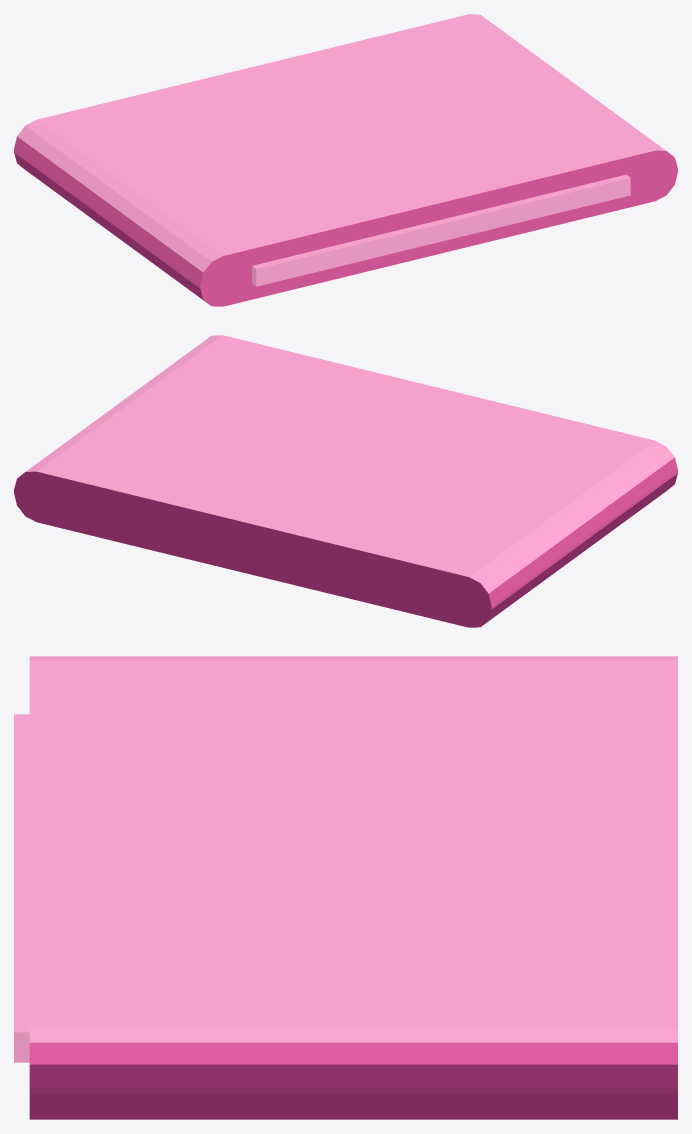
The model's file is Plate3D_Pad.gltf.
The picture shows the model from 3 angles, top to bottom: view 1: azimuth 30°, elevation 25°; view 2: azimuth 150°, elevation 25°; view 3: azimuth 270°, elevation 25°; orthographic projection. The views are drawn at different scales.
Visible parts, largest first — view 1: Plate3D_Pad_baked; view 2: Plate3D_Pad_baked; view 3: Plate3D_Pad_baked.
Part boxes in pixels (bbox=[...]): Plate3D_Pad_baked: bbox=[14, 14, 677, 306]; Plate3D_Pad_baked: bbox=[14, 335, 677, 627]; Plate3D_Pad_baked: bbox=[14, 656, 677, 1119].
Bounding box in the file's own units: 0.74 × 0.075 × 0.512.
